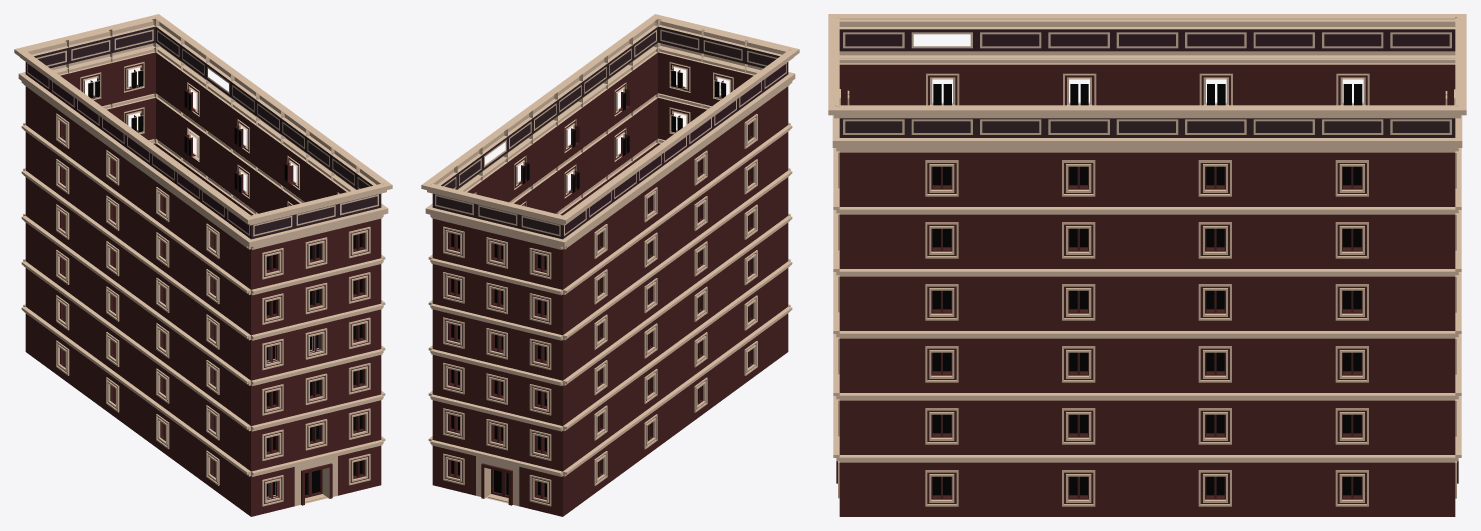
The model's file is myDirtBuilding.fbx.
3 renders of one model, left to right at view 1: azimuth 30°, elevation 25°; view 2: azimuth 150°, elevation 25°; view 3: azimuth 270°, elevation 25°, orthographic. The views are drawn at different scales.
Visible parts, largest first — view 1: Roof Corner.096; view 2: Roof Corner.096; view 3: Roof Corner.096.
Part boxes in pixels (x1,y1,x2,y2): Roof Corner.096: (14, 14, 392, 516); Roof Corner.096: (421, 14, 799, 516); Roof Corner.096: (828, 14, 1466, 516).
Bounding box in the file's own units: 333 × 664 × 933.
